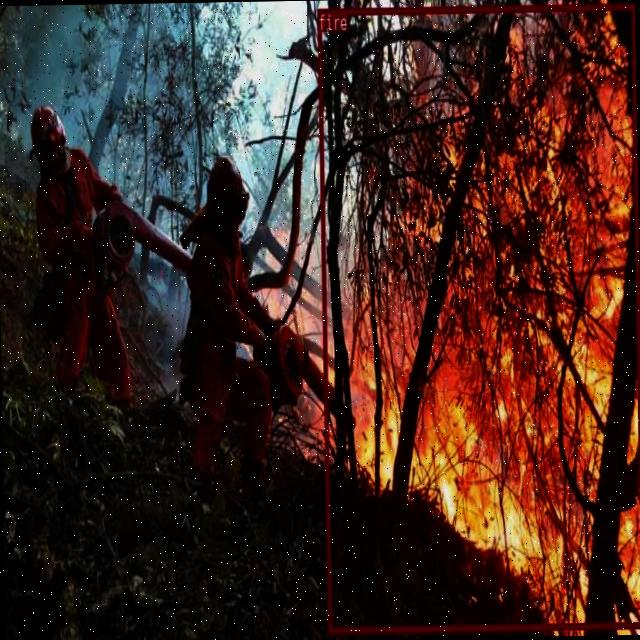fire: (317, 2, 640, 631)
